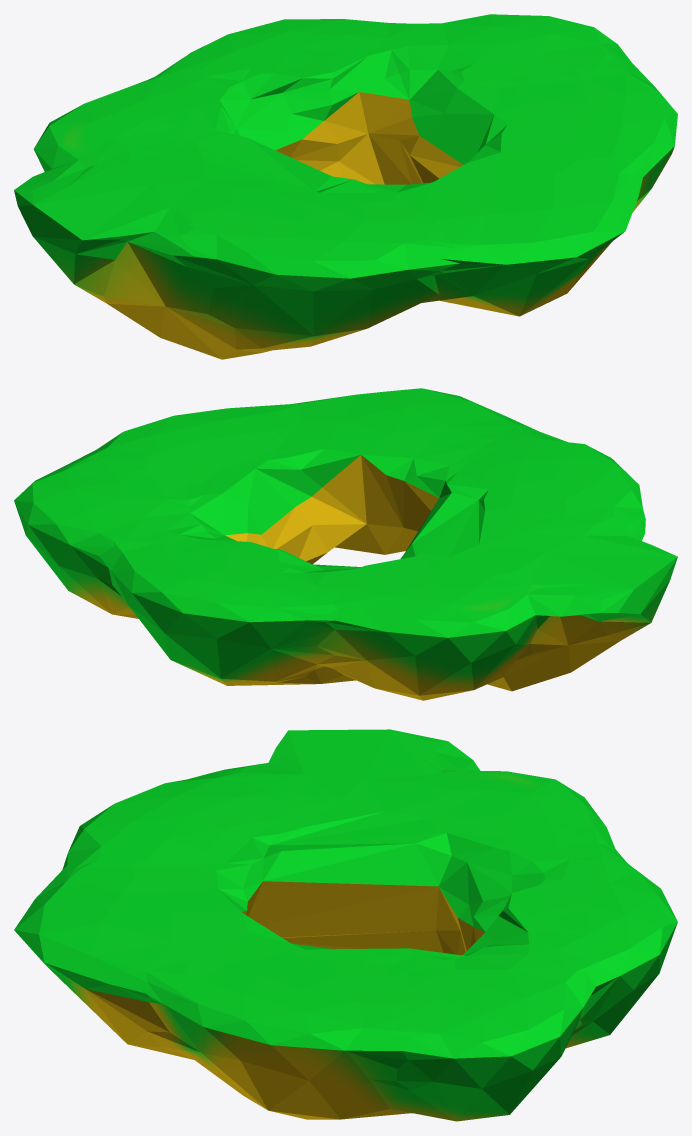
Rendered from landhole.obj.
3 renders of one model, top to bottom at view 1: azimuth 30°, elevation 25°; view 2: azimuth 150°, elevation 25°; view 3: azimuth 270°, elevation 25°, orthographic. The views are drawn at different scales.
Parts seen in each view (by area): view 1: Ico_球體.023; view 2: Ico_球體.023; view 3: Ico_球體.023.
Part boxes in pixels (x1,y1,x2,y2): Ico_球體.023: (14, 14, 677, 359); Ico_球體.023: (14, 388, 677, 700); Ico_球體.023: (14, 729, 677, 1121).
Bounding box in the file's own units: 306 × 82.22 × 269.
Materials: 1 (1 with a texture image).
